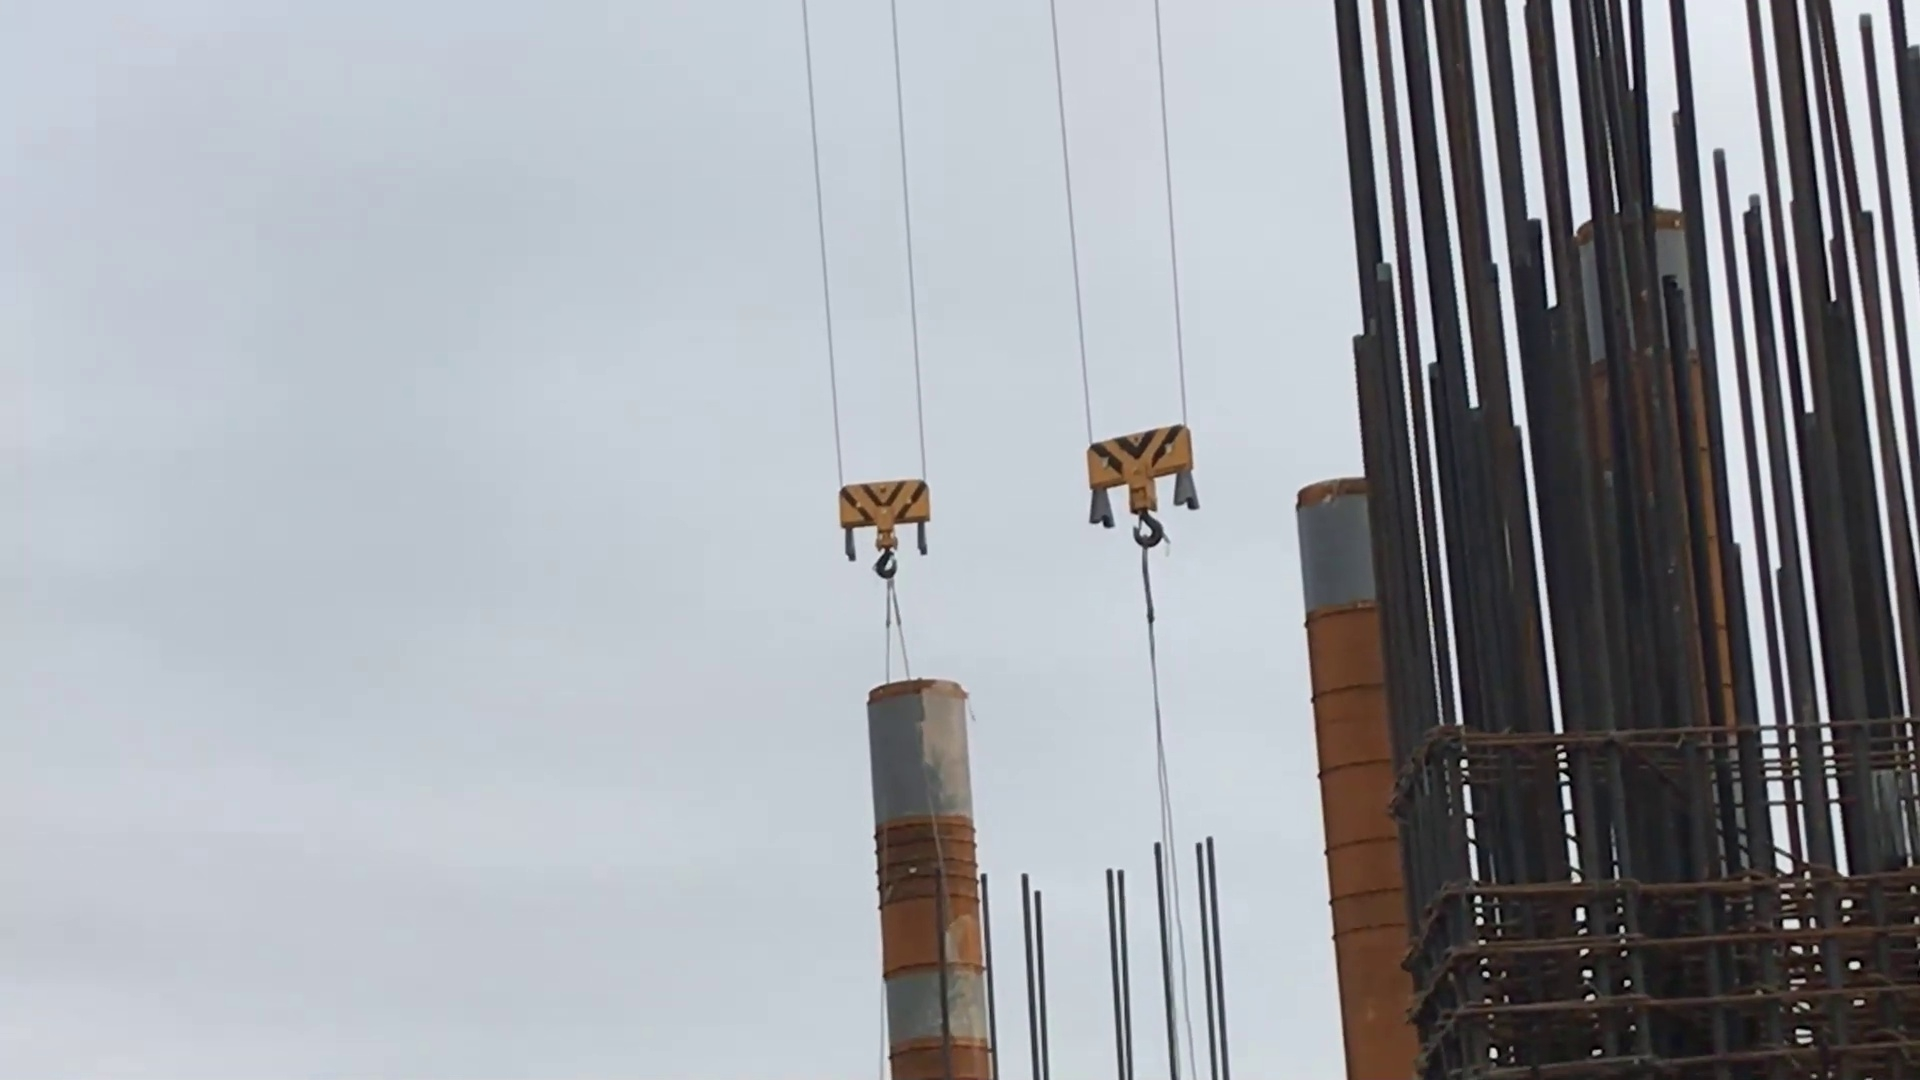hook: (1084, 421, 1201, 553), (835, 475, 934, 584)
